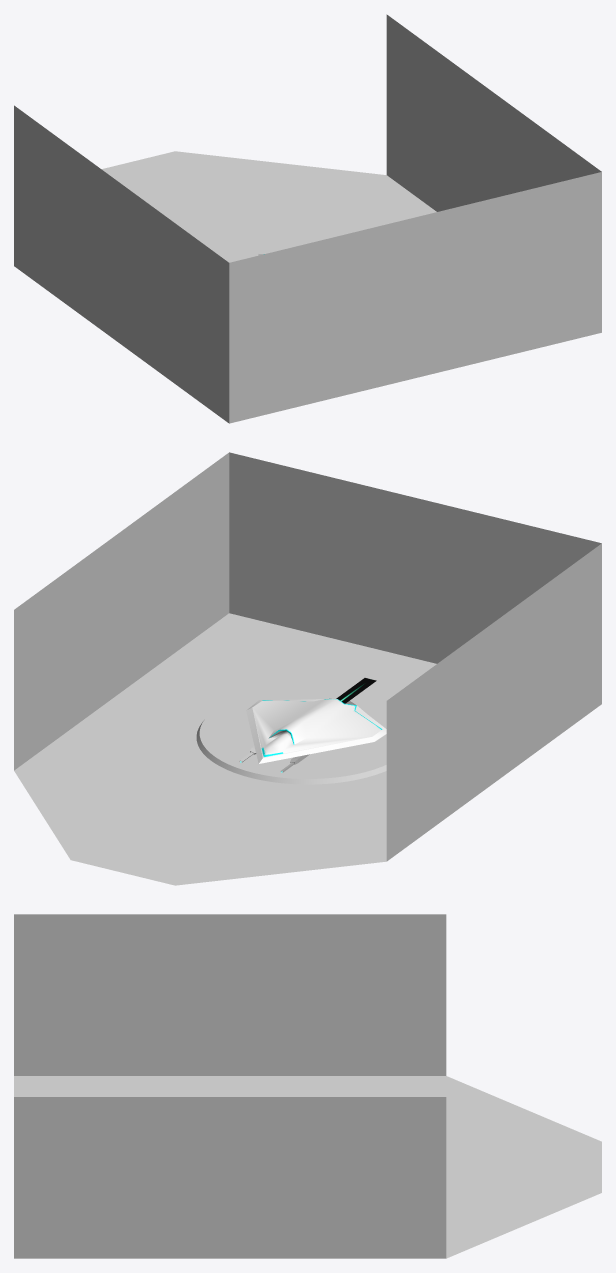
Rendered from fight_47.FBX.
3 views of the same model, one above another, from view 1: azimuth 30°, elevation 25°; view 2: azimuth 150°, elevation 25°; view 3: azimuth 270°, elevation 25° (orthographic).
Parts seen in each view (by area): view 1: Cylinder01; view 2: Cylinder01, Plane04; view 3: Cylinder01.
Boxes of the visible parts, left/top/right/bottom form: Cylinder01: left=14, top=14, right=601, bottom=423; Cylinder01: left=14, top=452, right=601, bottom=885; Plane04: left=246, top=698, right=386, bottom=763; Cylinder01: left=14, top=914, right=601, bottom=1258.
Bounding box in the file's own units: 2779 × 1146 × 3779.
